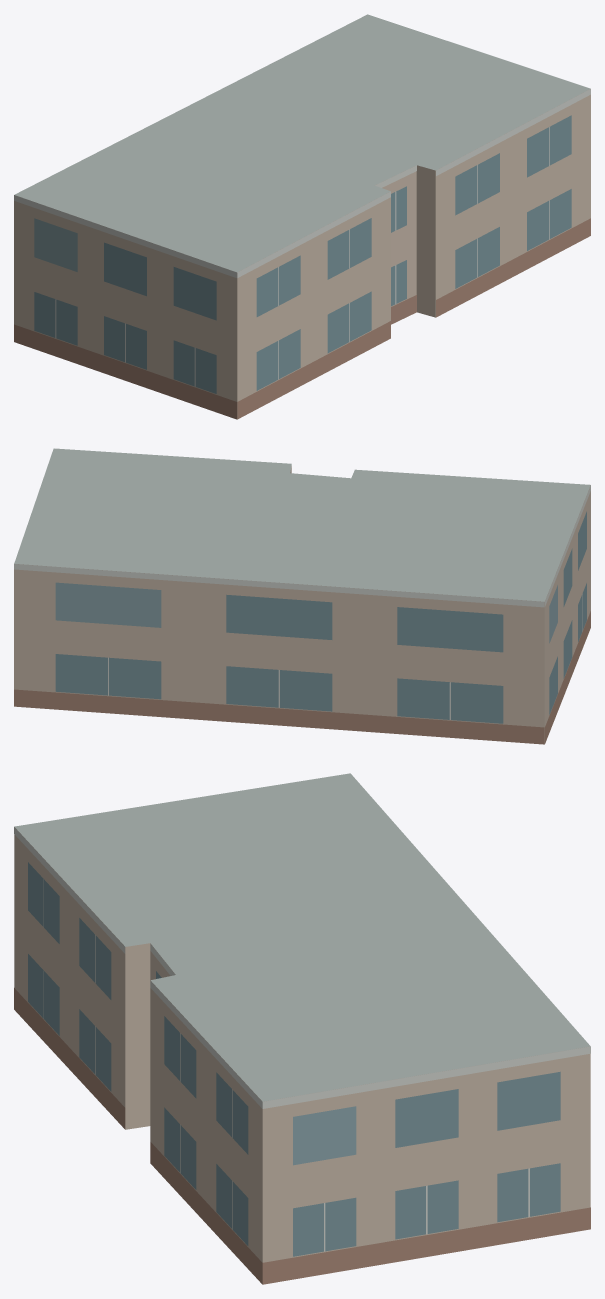
Rendered from survey-upis-32499763.glb.
3 views of the same model, one above another, from view 1: azimuth 30°, elevation 25°; view 2: azimuth 150°, elevation 25°; view 3: azimuth 270°, elevation 25° (orthographic). The views are drawn at different scales.
Visible parts, largest first — view 1: survey-upis-32499763.tmp; view 2: survey-upis-32499763.tmp; view 3: survey-upis-32499763.tmp.
Part boxes in pixels (x1,y1,x2,y2): survey-upis-32499763.tmp: (14, 14, 590, 419); survey-upis-32499763.tmp: (14, 448, 590, 744); survey-upis-32499763.tmp: (14, 773, 590, 1284).
Bounding box in the file's own units: 23.5 × 6.1 × 17.44.
